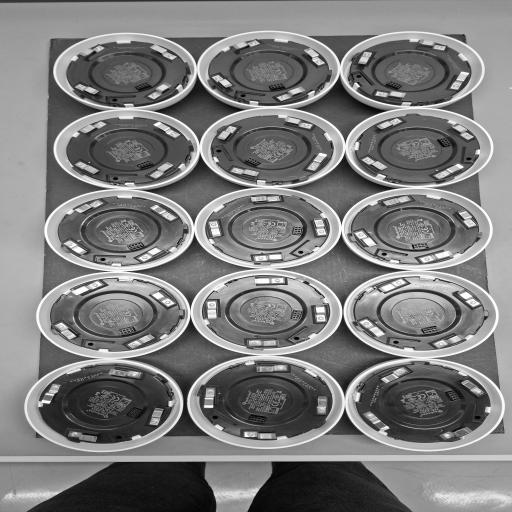konnektor: (125, 407, 143, 419), (248, 414, 267, 424), (124, 242, 145, 250), (446, 390, 460, 402), (244, 157, 262, 166), (411, 242, 430, 250), (437, 138, 452, 148), (385, 81, 403, 89), (118, 327, 136, 335), (290, 309, 302, 320), (135, 82, 151, 90), (268, 83, 286, 90), (137, 160, 152, 168), (422, 326, 439, 333), (290, 226, 303, 235)
yaysiz: (362, 411, 392, 432), (375, 367, 410, 384), (418, 249, 455, 264), (358, 319, 387, 338), (150, 121, 182, 138), (433, 332, 467, 348), (69, 281, 105, 296), (458, 378, 486, 397), (434, 163, 465, 180), (73, 199, 105, 215), (440, 425, 472, 441), (148, 43, 178, 60), (148, 204, 178, 221), (374, 279, 408, 294), (127, 333, 157, 350), (147, 289, 175, 307), (452, 208, 478, 227), (148, 162, 177, 179), (213, 124, 240, 142), (454, 289, 481, 307), (39, 384, 61, 406), (229, 167, 266, 180), (276, 86, 306, 102), (372, 117, 404, 132), (62, 240, 92, 256), (301, 47, 326, 66), (361, 156, 390, 172), (137, 246, 166, 262), (306, 152, 329, 172), (448, 123, 475, 140), (148, 82, 173, 100), (74, 161, 104, 176), (54, 322, 79, 340), (67, 431, 103, 443), (78, 121, 108, 135), (282, 116, 314, 129), (355, 230, 378, 248), (450, 70, 470, 90), (380, 195, 413, 207), (242, 430, 281, 440), (211, 74, 235, 90), (105, 368, 143, 378), (416, 39, 447, 51), (205, 300, 221, 322), (314, 393, 330, 415), (78, 44, 105, 57), (205, 387, 220, 410), (149, 407, 167, 426), (252, 364, 290, 373), (74, 83, 100, 96), (231, 40, 260, 51), (247, 195, 282, 204), (249, 277, 284, 286), (355, 51, 373, 68), (253, 253, 287, 262), (209, 220, 224, 240), (374, 91, 407, 100), (248, 339, 284, 347), (313, 217, 327, 236), (313, 302, 326, 322)
